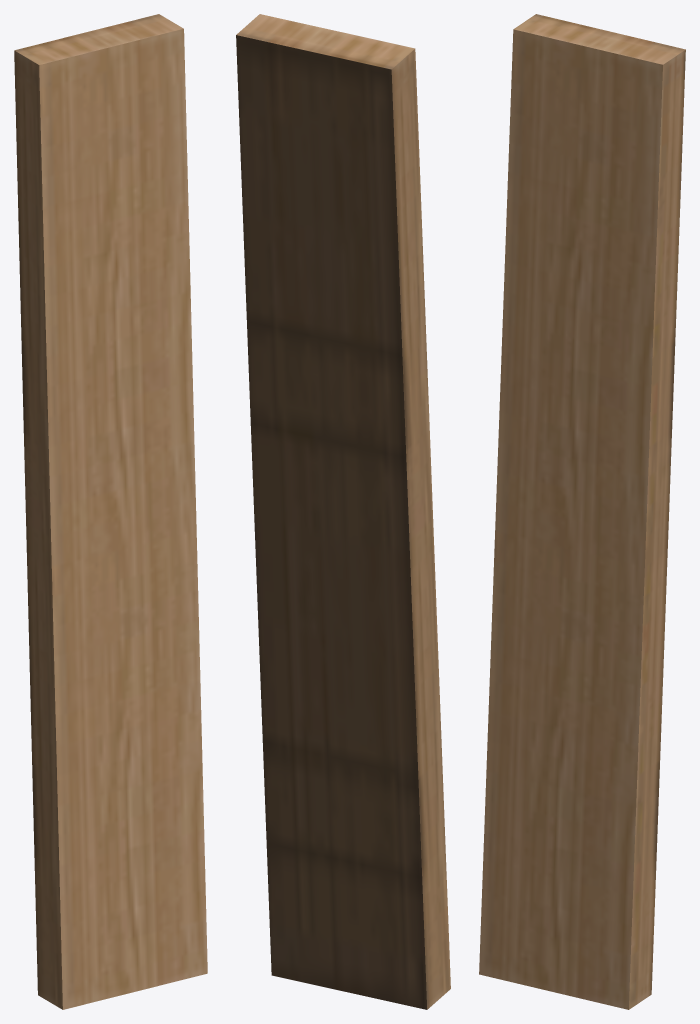
Rendered from Map_Furniture_103.fbx.
3 renders of one model, left to right at view 1: azimuth 30°, elevation 25°; view 2: azimuth 150°, elevation 25°; view 3: azimuth 330°, elevation 25°, orthographic. The views are drawn at different scales.
Parts seen in each view (by area): view 1: Map_Furniture_103; view 2: Map_Furniture_103; view 3: Map_Furniture_103.
Part boxes in pixels (x1,y1,x2,y2): Map_Furniture_103: (14,14,207,1009); Map_Furniture_103: (236,14,450,1009); Map_Furniture_103: (479,14,685,1009).
Size of the model in its own units: 0.417 by 2.41 by 0.2592.
